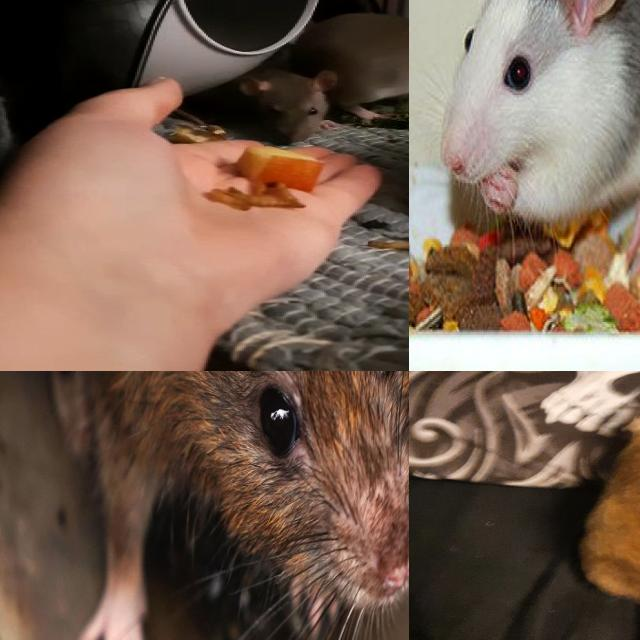rat: (39, 371, 409, 640), (424, 0, 640, 244), (576, 393, 640, 607), (234, 65, 339, 146)
